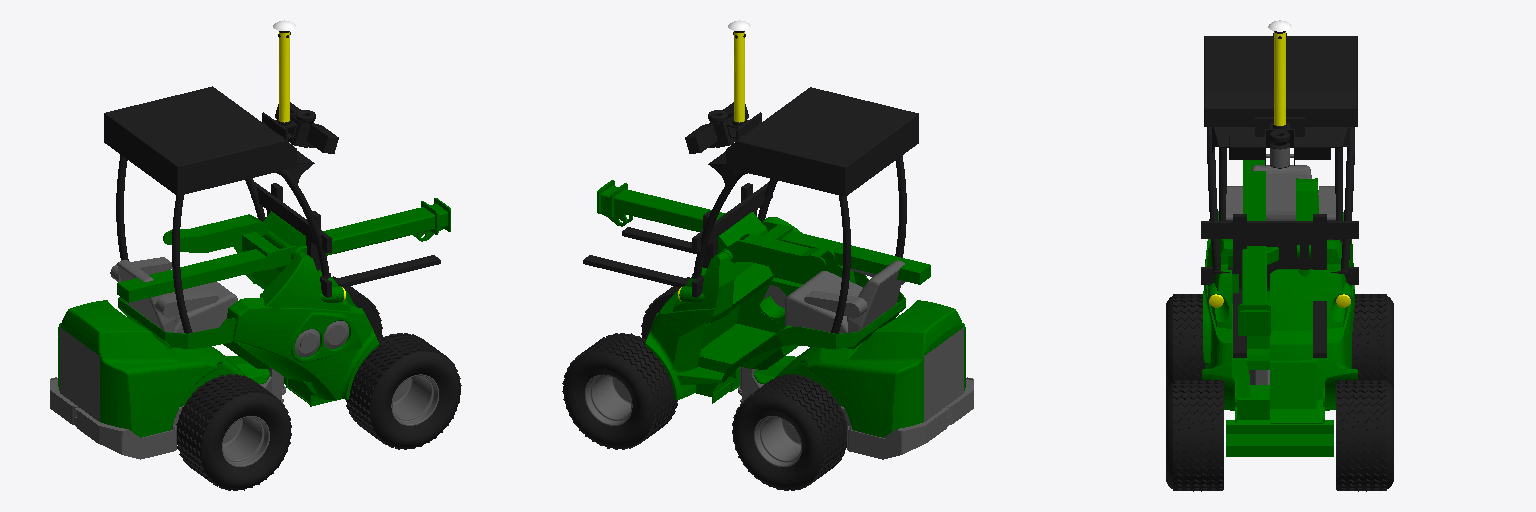
URDF robot description (avant_fork):
<?xml version="1.0"?>

<robot
  name="avant_fork" xmlns:xacro="http://ros.org/wiki/xacro">

  <!-- Materials a.k.a. used colors in the model -->
  
  <material name="green">
     <color rgba="0 .48 0 1"/>
  </material>

  <material name="black">
    <color rgba=".15 .15 .15 1"/>
  </material>

  <material name="white">
     <color rgba="1 1 1 1"/>
  </material>

  <material name="gray">
     <color rgba=".4 .4 .4 1"/>
  </material>

  <material name="yellow">
     <color rgba="1 1 0 1"/>
  </material>


<!-- The first link. Named avant to locate the part in the same position
     as the published coordinate system from the actual model. -->  
  
  <link
    name="avant">
    <visual>
      <origin
        xyz="0.0 0.0 0.0"
        rpy="0 0 0" />
      <geometry>
        <cylinder length="0.01" radius="0.01"/>
      </geometry>
      <material name="green"/>
    </visual>
  </link>

<!-- Frontbody and middle cylinder. Frontbody is connected to middle cylinder
     with a fixed joint. ( Middle cylinder's origin is -0.6m (x-direction) 
	 and 0.0866m (z-direction) from frontbody's origin, which is at the center
	 of the front axle.) The first link avant has the origin at its center
     and is then connected to the origin of the frontbody. Thereby the origin
     of the whole robot is at the center of the front axle	 --> 
 
  <link
   name="front_body">
    <visual>
      <origin
        xyz="0.0 0.0 0.0"
        rpy="0 0 0" />
      <geometry>
        <mesh
         filename="package://avant_description/meshes/Frontbody.STL"/>
      </geometry>
      <material name="green"/>
    </visual>
  </link>

  <joint name="avant_to_front" type="fixed">
    <parent link="avant"/>
    <child link="front_body"/>
    <origin xyz="0.0 0.0 0.0"/>
  </joint>


  <link
    name="middle_cylinder">
    <visual>
      <origin
        xyz="0.0 0.0 0.0"
        rpy="0 0 0" />
      <geometry>
        <cylinder length="0.29" radius="0.0275"/>
      </geometry>
      <material name="gray"/>
    </visual>
  </link>

  <joint name="front_to_center" type="fixed">
    <parent link="front_body"/>
    <child link="middle_cylinder"/>
    <origin xyz="-0.6 0.0 0.0866"/>
  </joint>

<!-- Back frame and back body. Back frame is connected to middle cylinder
     with a revolute joint. ( Back frame's origin is -0.6m (x-direction) 
	 and -0.0866m (z-direction) from cylinder's origin.) Backbody is then
	 connected with a fixed joint to back frame, origin at the same spot
	 as back frame's one. -->
	 
  <link
    name="back_frame">
    <visual>
     <origin
       xyz="-0.6 0.0 -0.0866"
       rpy="0 0 0" />
     <geometry>
       <mesh
         filename="package://avant_description/meshes/Backframe.STL"/>
     </geometry>
     <material name="gray"/>
    </visual>
  </link>

  <joint name="center_link" type="revolute">
    <parent link="middle_cylinder"/>
    <child link="back_frame"/>
    <axis xyz="0 0 1"/>
    <origin xyz="0.0 0.0 0.0"/>
    <limit
      lower="-1.75"
      upper="1.75"
      effort="1000"
      velocity="1" />
  </joint>

  <link
   name="back_body">
    <visual>
      <origin
        xyz="0.0 0.0 0.0"
        rpy="0 0 0" />
      <geometry>
        <mesh
         filename="package://avant_description/meshes/Backbody.STL"/>
      </geometry>
      <material name="green"/>
    </visual>
  </link>

  <joint name="back_frame_to_back_body" type="fixed">
    <parent link="back_frame"/>
    <child link="back_body"/>
    <origin xyz="-0.6 0.0 -0.0866"/>
  </joint>

<!-- Boom, where the front boom is connected, linked to front body 
     origin with a revolute joint. The distance from the front body 
     origin to boom origin is in x-direction -0.6m
                              in y-direction -0.257m and
        	              in z-direction 0.95m.-->
	 
  <link
    name="boom">
    <visual>
     <origin
       xyz="0.0 0.0 0.0"
       rpy="0 0 0" />
     <geometry>
       <mesh
         filename="package://avant_description/meshes/Boom.STL"/>
     </geometry>
     <material name="green"/>
    </visual>
  </link>

  <joint name="boom_angle" type="revolute">
    <parent link="front_body"/>
    <child link="boom"/>
    <axis xyz="0 -1 0"/>
    <origin xyz="-0.6 -0.257 0.95"/>
    <limit
      lower="-1.75"
      upper="1.75"
      effort="1000"
      velocity="1" />
  </joint>

<!-- Front boom, where the tool fixture is connected, linked to boom 
     origin with a prismatic joint. The distance from the boom origin
     to front boom origin (in y-direction) is 0.106m.-->

 <link
    name="front_boom">
    <visual>
     <origin
       xyz="-1.193 0.0 0.0"
       rpy="0 0 0" />
     <geometry>
       <mesh
         filename="package://avant_description/meshes/Front_boom.STL"/>
     </geometry>
     <material name="green"/>
    </visual>
  </link>

  <joint name="telescope_length" type="prismatic">
    <parent link="boom"/>
    <child link="front_boom"/>
    <axis xyz="1 0 0"/>
    <origin xyz="0.0 0.106 0.0"/>
    <limit
      lower="0"
      upper="2"
      effort="1000"
      velocity="1" />
  </joint>

<!-- Tool fixture, where the tool is connected, linked to front boom 
     origin with a revolute joint. The distance from the center of
     front boom to center of tool (in y-direction) is 0.151m.-->

 <link
    name="tool_fixture">
    <visual>
     <origin
       xyz="0.0 0.0 0.0"
       rpy="0 0 0" />
     <geometry>
       <mesh
         filename="package://avant_description/meshes/Tool_fixture.STL"/>
     </geometry>
     <material name="green"/>
    </visual>
  </link>

  <joint name="fork_angle" type="revolute">
    <parent link="front_boom"/>
    <child link="tool_fixture"/>
    <axis xyz="0 -1 0"/>
    <origin xyz="0.0 0.151 0.0"/>
    <limit
      lower="-1"
      upper="1"
      effort="1000"
      velocity="1" />
  </joint>

<!-- Tool being used (in this case, fork), linked to tool fixture 
     origin with a fixed joint. The distance from fork angle joint
     to tool origin is 0.07m (in x-direction).-->

 <link
    name="fork">
    <visual>
     <origin
       xyz="0.0 0.0 0.0"
       rpy="0 0 0" />
     <geometry>
       <mesh
         filename="package://avant_description/meshes/Trukkipiikit.STL"/>
     </geometry>
     <material name="black"/>
    </visual>
  </link>

  <joint name="tool_joint" type="fixed">
    <parent link="tool_fixture"/>
    <child link="fork"/>
    <origin xyz="0.07 0.0 0.0"/>
  </joint>

<!-- Seat, linked to front body origin with a fixed joint -->

  <link
   name="seat">
    <visual>
      <origin
        xyz="0.0 0.0 0.0"
        rpy="0 0 0" />
      <geometry>
        <mesh
         filename="package://avant_description/meshes/Seat.STL"/>
      </geometry>
      <material name="gray"/>
    </visual>
  </link>

  <joint name="seat_to_front_body" type="fixed">
    <parent link="front_body"/>
    <child link="seat"/>
    <origin xyz="0.0 0.0 0.0"/>
  </joint>

<!-- Safety frame, linked to front body origin with a fixed joint -->

  <link
   name="safety_frame">
    <visual>
      <origin
        xyz="0.0 0.0 0.0"
        rpy="0 0 0" />
      <geometry>
        <mesh
         filename="package://avant_description/meshes/Safety_frame.STL"/>
      </geometry>
      <material name="black"/>
    </visual>
  </link>

  <joint name="frame_to_front_body" type="fixed">
    <parent link="front_body"/>
    <child link="safety_frame"/>
    <origin xyz="0.0 0.0 0.0"/>
  </joint>
 
<!-- Scanner fixture, linked to front body origin with a fixed joint -->

  <link
   name="scanner_fixture">
    <visual>
      <origin
        xyz="0.0 0.0 0.0"
        rpy="0 0 0" />
      <geometry>
        <mesh
         filename="package://avant_description/meshes/Kattoskanneri_kiinnitys.STL"/>
      </geometry>
      <material name="black"/>
    </visual>
  </link>

  <joint name="scan_fixture" type="fixed">
    <parent link="front_body"/>
    <child link="scanner_fixture"/>
    <origin xyz="0.0 0.0 0.0"/>
  </joint>

<!-- Scanner parts, linked to front body origin with a fixed joint -->

  <link
   name="scanner_gray">
    <visual>
      <origin
        xyz="0.0 0.0 0.0"
        rpy="0 0 0" />
      <geometry>
        <mesh
         filename="package://avant_description/meshes/Skanneri_harmaaosa.STL"/>
      </geometry>
      <material name="gray"/>
    </visual>
  </link>

  <joint name="scanner" type="fixed">
    <parent link="front_body"/>
    <child link="scanner_gray"/>
    <origin xyz="0.0 0.0 0.0"/>
  </joint>

  <link
   name="scanner_black">
    <visual>
      <origin
        xyz="0.0 0.0 0.0"
        rpy="0 0 0" />
      <geometry>
        <mesh
         filename="package://avant_description/meshes/Skanneri_mustaosa.STL"/>
      </geometry>
      <material name="black"/>
    </visual>
  </link>

  <joint name="scanner_bl" type="fixed">
    <parent link="front_body"/>
    <child link="scanner_black"/>
    <origin xyz="0.0 0.0 0.0"/>
  </joint>

<!-- Pole on the roof, linked to front body origin with a fixed joint -->

  <link
   name="pole_yellow">
    <visual>
      <origin
        xyz="0.0 0.0 0.0"
        rpy="0 0 0" />
      <geometry>
        <mesh
         filename="package://avant_description/meshes/Kattotolppa_keltainen.STL"/>
      </geometry>
      <material name="yellow"/>
    </visual>
  </link>

  <joint name="pole_1" type="fixed">
    <parent link="front_body"/>
    <child link="pole_yellow"/>
    <origin xyz="0.0 0.0 0.0"/>
  </joint>
 
<!-- Pole on the roof, linked to front body origin with a fixed joint -->

  <link
   name="pole_black">
    <visual>
      <origin
        xyz="0.0 0.0 0.0"
        rpy="0 0 0" />
      <geometry>
        <mesh
         filename="package://avant_description/meshes/Kattotolppa_musta.STL"/>
      </geometry>
      <material name="black"/>
    </visual>
  </link>

  <joint name="pole_2" type="fixed">
    <parent link="front_body"/>
    <child link="pole_black"/>
    <origin xyz="0.0 0.0 0.0"/>
  </joint>

<!-- Pole on the roof, linked to front body origin with a fixed joint -->

  <link
   name="pole_white">
    <visual>
      <origin
        xyz="0.0 0.0 0.0"
        rpy="0 0 0" />
      <geometry>
        <mesh
         filename="package://avant_description/meshes/Kattotolppa_valkoinen.STL"/>
      </geometry>
      <material name="white"/>
    </visual>
  </link>

  <joint name="pole_3" type="fixed">
    <parent link="front_body"/>
    <child link="pole_white"/>
    <origin xyz="0.0 0.0 0.0"/>
  </joint>
  
<!-- Box on the roof, linked to front body origin with a fixed joint -->

 <link
   name="roof">
    <visual>
      <origin
        xyz="0.0 0.0 0.0"
        rpy="0 0 0" />
      <geometry>
        <mesh
         filename="package://avant_description/meshes/Katto.STL"/>
      </geometry>
      <material name="black"/>
    </visual>
  </link>

  <joint name="roof_to_front_body" type="fixed">
    <parent link="front_body"/>
    <child link="roof"/>
    <origin xyz="0.0 0.0 0.0"/>
  </joint>

<!-- Ligths and fans on the side, linked to front body origin with a fixed
     joint -->

 <link
   name="headlight_right">
    <visual>
      <origin
        xyz="0.0 0.0 0.0"
        rpy="0 0 0" />
      <geometry>
        <mesh
         filename="package://avant_description/meshes/Valo_oikea.STL"/>
      </geometry>
      <material name="yellow"/>
    </visual>
  </link>

  <joint name="headlight_1" type="fixed">
    <parent link="front_body"/>
    <child link="headlight_right"/>
    <origin xyz="0.0 0.0 0.0"/>
  </joint>

 <link
   name="headlight_left">
    <visual>
      <origin
        xyz="0.0 0.0 0.0"
        rpy="0 0 0" />
      <geometry>
        <mesh
         filename="package://avant_description/meshes/Valo_vasen.STL"/>
      </geometry>
      <material name="yellow"/>
    </visual>
  </link>

  <joint name="headlight_2" type="fixed">
    <parent link="front_body"/>
    <child link="headlight_left"/>
    <origin xyz="0.0 0.0 0.0"/>
  </joint>
    
 <link
   name="cooling_fan_front">
    <visual>
      <origin
        xyz="0.0 0.0 0.0"
        rpy="0 0 0" />
      <geometry>
        <mesh
         filename="package://avant_description/meshes/Puhallin_etu.STL"/>
      </geometry>
      <material name="gray"/>
    </visual>
  </link>

  <joint name="fan_front" type="fixed">
    <parent link="front_body"/>
    <child link="cooling_fan_front"/>
    <origin xyz="0.0 0.0 0.0"/>
  </joint>

 <link
   name="cooling_fan_rear">
    <visual>
      <origin
        xyz="0.0 0.0 0.0"
        rpy="0 0 0" />
      <geometry>
        <mesh
         filename="package://avant_description/meshes/Puhallin_taka.STL"/>
      </geometry>
      <material name="gray"/>
    </visual>
  </link>

  <joint name="fan_rear" type="fixed">
    <parent link="front_body"/>
    <child link="cooling_fan_rear"/>
    <origin xyz="0.0 0.0 0.0"/>
  </joint>

 <!-- Rims, wheels and center pins. Continuous joints between
      body and rim, fixed joints between wheels, rims and pins--> 
  
  <link
    name="back_right_rim">
    <visual>
      <origin
        xyz="0 0 0"
        rpy="0 0 0" />
      <geometry>
        <mesh
         filename="package://avant_description/meshes/Vanne.STL"/>
      </geometry>
     <material name="gray"/>
    </visual>
  </link>

  <joint name="back_right_rim_joint" type="fixed">
    <parent link="back_body"/>
    <child link="back_right_rim"/>
    <origin xyz="0.0 -0.4827 0.0" rpy="0 0 0"/>
  </joint>
  
 <link
    name="back_right_wheel">
    <visual>
      <origin
        xyz="0 0 0"
        rpy="0 0 0" />
      <geometry>
        <mesh
         filename="package://avant_description/meshes/Rengas.STL"/>
      </geometry>
      <material name="black"/>
    </visual>
  </link>

  <joint name="back_right_wheel_joint" type="fixed">
    <parent link="back_right_rim"/>
    <child link="back_right_wheel"/>
    <origin xyz="0.0 0.0 0.0" rpy="0 0 0"/>
  </joint>
 
 <link
    name="back_right_pin">
    <visual>
      <origin
        xyz="0 0 0"
        rpy="0 0 0" />
      <geometry>
        <mesh
         filename="package://avant_description/meshes/Rengas_keskitappi.STL"/>
      </geometry>
      <material name="gray"/>
    </visual>
  </link>

  <joint name="back_right_pin_joint" type="fixed">
    <parent link="back_right_rim"/>
    <child link="back_right_pin"/>
    <origin xyz="0.0 0.0 0.0" rpy="0 0 0"/>
  </joint>
  
  <link
    name="back_left_rim">
    <visual>
      <origin
        xyz="0 0 0"
        rpy="0 0 3.14159" />
      <geometry>
        <mesh
         filename="package://avant_description/meshes/Vanne.STL"/>
      </geometry>
      <material name="gray"/>
    </visual>
  </link>

  <joint name="back_left_rim_joint" type="fixed">
    <parent link="back_body"/>
    <child link="back_left_rim"/>
    <origin xyz="0.0 0.4827 0.0" rpy="0 0 0"/>
  </joint>
 
 <link
    name="back_left_wheel">
    <visual>
      <origin
        xyz="0 0 0"
        rpy="0 0 3.14159" />
      <geometry>
        <mesh
         filename="package://avant_description/meshes/Rengas.STL"/>
      </geometry>
      <material name="black"/>
    </visual>
  </link>

  <joint name="back_left_wheel_joint" type="fixed">
    <parent link="back_left_rim"/>
    <child link="back_left_wheel"/>
    <origin xyz="0.0 0.0 0.0" rpy="0 0 0"/>
  </joint>
 
 <link
    name="back_left_pin">
    <visual>
      <origin
        xyz="0 0 0"
        rpy="0 0 3.14159" />
      <geometry>
        <mesh
         filename="package://avant_description/meshes/Rengas_keskitappi.STL"/>
      </geometry>
      <material name="gray"/>
    </visual>
  </link>

  <joint name="back_left_pin_joint" type="fixed">
    <parent link="back_left_rim"/>
    <child link="back_left_pin"/>
    <origin xyz="0.0 0.0 0.0" rpy="0 0 0"/>
  </joint>
  
  <link
    name="front_right_rim">
    <visual>
      <origin
        xyz="0 0 0"
        rpy="0 0 0" />
      <geometry>
        <mesh
         filename="package://avant_description/meshes/Vanne.STL"/>
      </geometry>
      <material name="gray"/>
    </visual>
  </link>

  <joint name="front_right_rim_joint" type="fixed">
    <parent link="front_body"/>
    <child link="front_right_rim"/>
    <origin xyz="0.0 -0.4827 0.0" rpy="0 0 0"/>
  </joint>
 
 <link
    name="front_right_wheel">
    <visual>
      <origin
        xyz="0 0 0"
        rpy="0 0 0" />
      <geometry>
        <mesh
         filename="package://avant_description/meshes/Rengas.STL"/>
      </geometry>
      <material name="black"/>
    </visual>
  </link>

  <joint name="front_right_wheel_joint" type="fixed">
    <parent link="front_right_rim"/>
    <child link="front_right_wheel"/>
    <origin xyz="0.0 0.0 0.0" rpy="0 0 0"/>
  </joint>
 
 <link
    name="front_right_pin">
    <visual>
      <origin
        xyz="0 0 0"
        rpy="0 0 0" />
      <geometry>
        <mesh
         filename="package://avant_description/meshes/Rengas_keskitappi.STL"/>
      </geometry>
      <material name="gray"/>
    </visual>
  </link>

  <joint name="front_right_pin_joint" type="fixed">
    <parent link="front_right_rim"/>
    <child link="front_right_pin"/>
    <origin xyz="0.0 0.0 0.0" rpy="0 0 0"/>
  </joint>

  <link
    name="front_left_rim">
    <visual>
      <origin
        xyz="0 0 0"
        rpy="0 0 3.14159" />
      <geometry>
        <mesh
         filename="package://avant_description/meshes/Vanne.STL"/>
      </geometry>
      <material name="gray"/>
    </visual>
  </link>

  <joint name="front_left_rim_joint" type="fixed">
    <parent link="front_body"/>
    <child link="front_left_rim"/>
    <origin xyz="0.0 0.4827 0.0" rpy="0 0 0"/>
  </joint>
 
 <link
    name="front_left_wheel">
    <visual>
      <origin
        xyz="0 0 0"
        rpy="0 0 3.14159" />
      <geometry>
        <mesh
         filename="package://avant_description/meshes/Rengas.STL"/>
      </geometry>
      <material name="black"/>
    </visual>
  </link>

  <joint name="front_left_wheel_joint" type="fixed">
    <parent link="front_left_rim"/>
    <child link="front_left_wheel"/>
    <origin xyz="0.0 0.0 0.0" rpy="0 0 0"/>
  </joint>
 
 <link
    name="front_left_pin">
    <visual>
      <origin
        xyz="0 0 0"
        rpy="0 0 3.14159" />
      <geometry>
        <mesh
         filename="package://avant_description/meshes/Rengas_keskitappi.STL"/>
      </geometry>
      <material name="gray"/>
    </visual>
  </link>

  <joint name="front_left_pin_joint" type="fixed">
    <parent link="front_left_rim"/>
    <child link="front_left_pin"/>
    <origin xyz="0.0 0.0 0.0" rpy="0 0 0"/>
  </joint>

</robot>

--- Facts derived from the render (not from the file) ---
Views: 3 orthographic renders of the robot side by side, from view 1: azimuth 30°, elevation 25°; view 2: azimuth 150°, elevation 25°; view 3: azimuth 270°, elevation 25°.
Robot: avant_fork — 34 links, 33 joints (3 revolute, 1 prismatic, 29 fixed); root link avant; default pose: all joints at 0.
Visible links, largest first — view 1: front_body, roof, back_body, back_right_wheel, front_right_wheel, front_boom, back_frame, seat, boom, safety_frame, fork, back_right_rim (+7 smaller); view 2: front_body, roof, back_body, back_left_wheel, front_left_wheel, back_frame, front_boom, seat, fork, safety_frame, boom, back_left_rim (+5 smaller); view 3: front_body, roof, fork, front_right_wheel, front_left_wheel, scanner_fixture, back_left_wheel, safety_frame, back_right_wheel, seat, boom, front_boom (+1 smaller).
Boxes of the visible links, x1,y1,x2,y2 form: front_body: (118,217,378,406); roof: (104,86,296,195); back_body: (58,300,269,437); back_right_wheel: (176,374,291,490); front_right_wheel: (346,333,461,449); front_boom: (117,214,297,302); back_frame: (50,327,285,459); seat: (110,257,237,332); boom: (262,198,450,259); safety_frame: (116,155,330,333); fork: (251,182,440,297); back_right_rim: (222,416,269,466); front_body: (645,217,905,403); roof: (726,87,918,196); back_body: (754,300,965,437); back_left_wheel: (732,374,846,490); front_left_wheel: (562,333,677,449); back_frame: (738,327,973,459); front_boom: (726,220,930,284); seat: (785,260,905,332); fork: (583,182,772,297); safety_frame: (692,155,906,333); boom: (597,180,767,260); back_left_rim: (754,416,801,466); front_body: (1202,239,1357,456); roof: (1204,36,1357,126); fork: (1201,214,1358,357); front_right_wheel: (1166,380,1223,491); front_left_wheel: (1336,380,1393,491); scanner_fixture: (1214,117,1347,165); back_left_wheel: (1352,294,1393,388); safety_frame: (1207,127,1354,273); back_right_wheel: (1166,294,1205,388); seat: (1226,165,1335,220); boom: (1238,245,1310,336); front_boom: (1243,160,1317,220).
Bounding box of the posed robot: 2.53 × 1.35 × 2.77 m (x, y, z).
Meshes: 23 distinct files referenced, 32 mesh visuals loaded (23 binary STL).